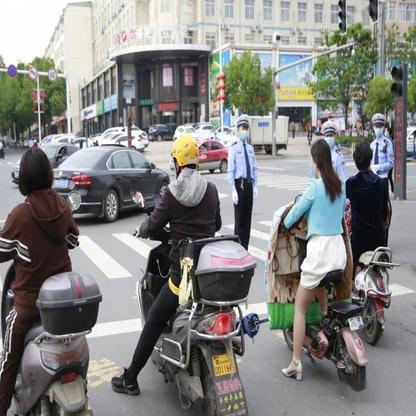target: (2, 147, 104, 411), (266, 140, 367, 394), (345, 141, 399, 345)
